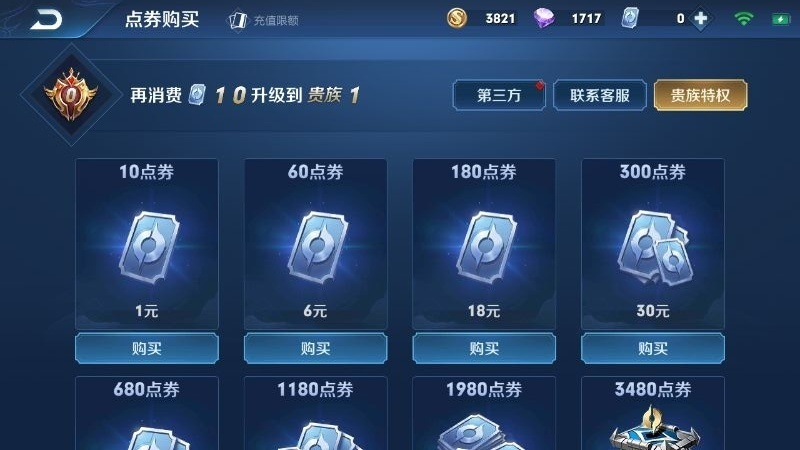return: (24, 4, 77, 34)
tag: (654, 79, 748, 109), (452, 81, 541, 108)
